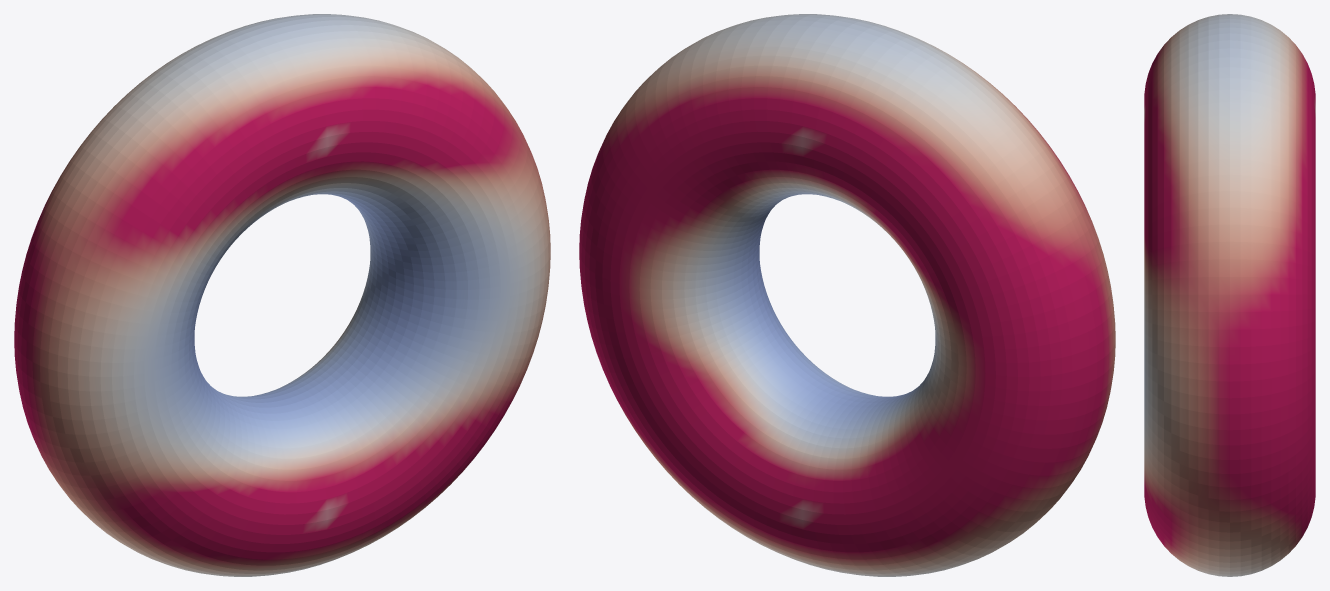
3 renders of one model, left to right at view 1: azimuth 30°, elevation 25°; view 2: azimuth 150°, elevation 25°; view 3: azimuth 270°, elevation 25°, orthographic. The views are drawn at different scales.
Visible parts, largest first — view 1: world; view 2: world; view 3: world.
Part boxes in pixels (<box>): world: <box>14,14,550,576</box>; world: <box>579,14,1115,576</box>; world: <box>1144,14,1315,576</box>.
Size of the model in its own units: 24.93 by 24.93 by 7.59.
